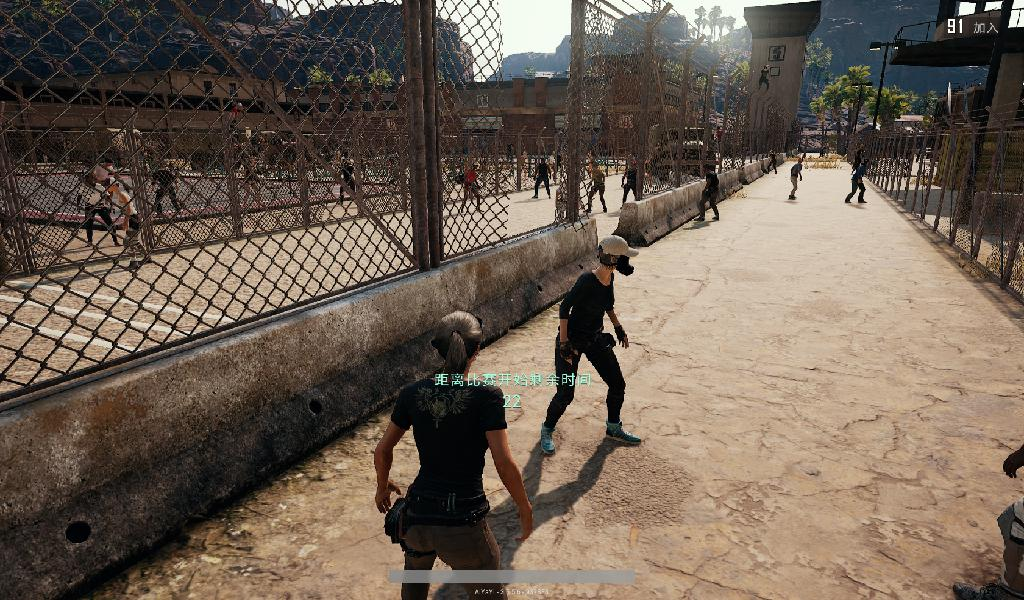Target Person: (381, 310, 535, 600), (547, 233, 640, 452), (103, 175, 153, 273), (77, 169, 123, 246), (149, 158, 184, 223), (696, 161, 721, 225), (240, 156, 267, 214), (621, 156, 643, 216), (584, 162, 607, 215), (844, 158, 869, 205), (336, 156, 358, 209), (462, 162, 483, 212), (531, 156, 551, 199), (787, 156, 803, 199), (758, 63, 769, 97), (766, 148, 777, 173)
